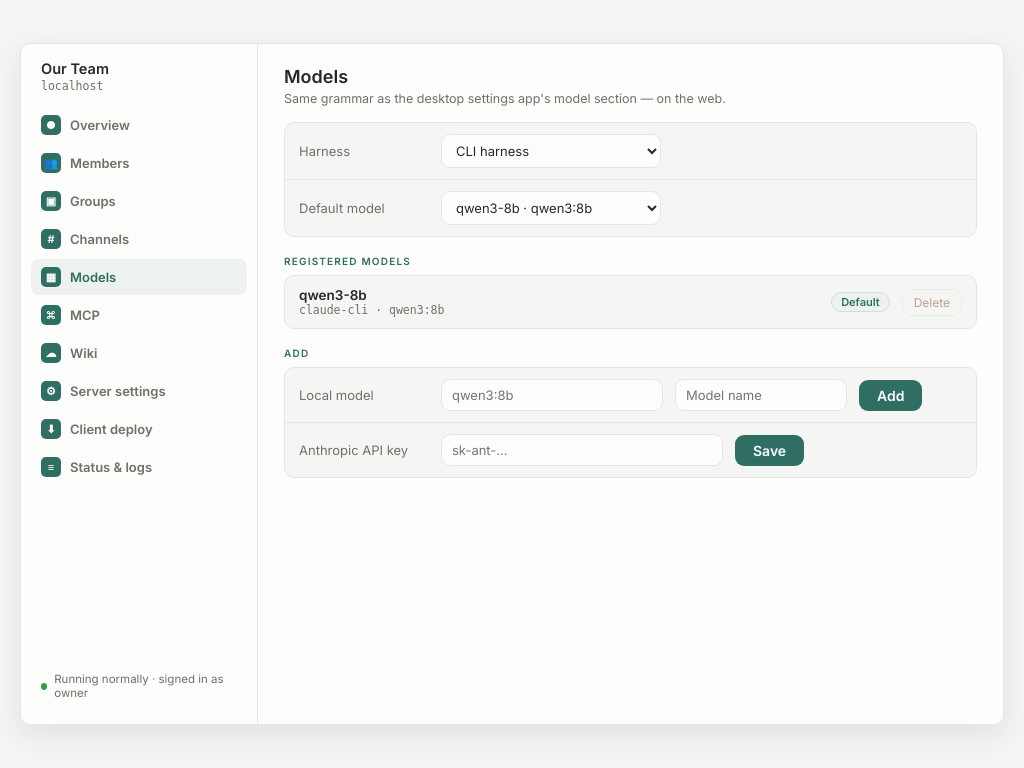
Test: 선택한 하네스에 모델이 없으면 안내 문구를 보여주고 기본 모델은 그대로 둔다
Expected: the text "qwen3-8b" is shown, [299, 287, 367, 303]
Expected: the text "No models for this harness — add one below" is not shown
Select "Engram harness" in the dropdown showing "CLI harness" next to "Harness" at (551, 151), box [441, 134, 661, 168]
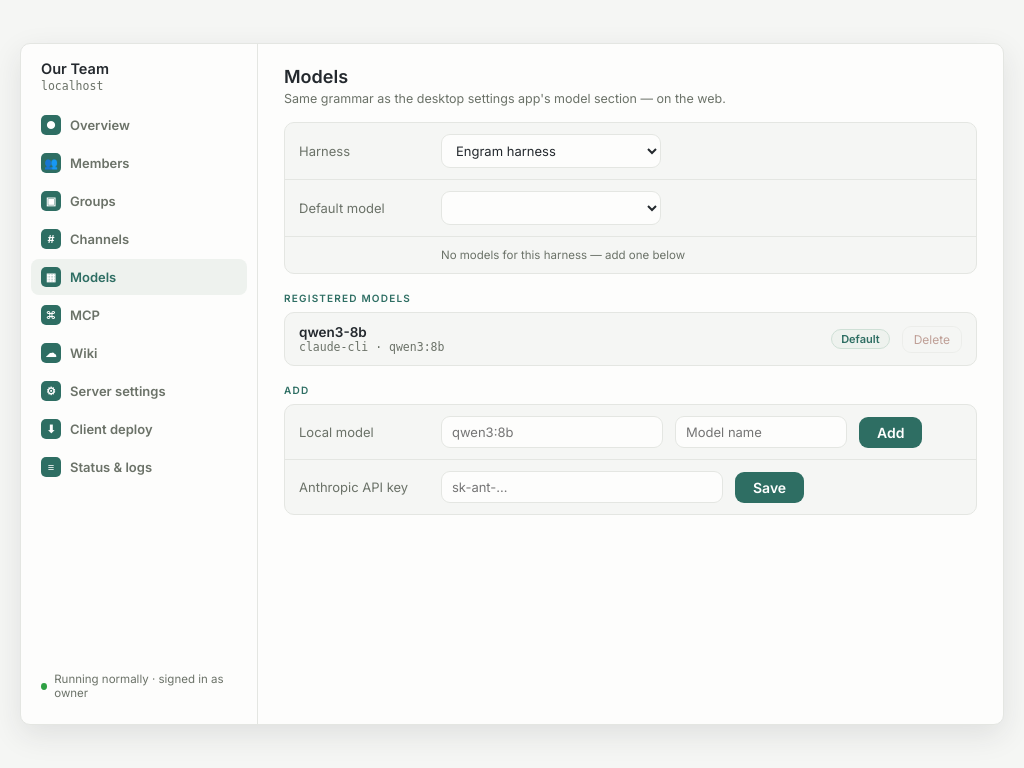
Expected: the text "Default" is shown, [831, 329, 890, 349]
Result: the text "No models for this harness — add one below" is shown at [441, 248, 685, 262]
